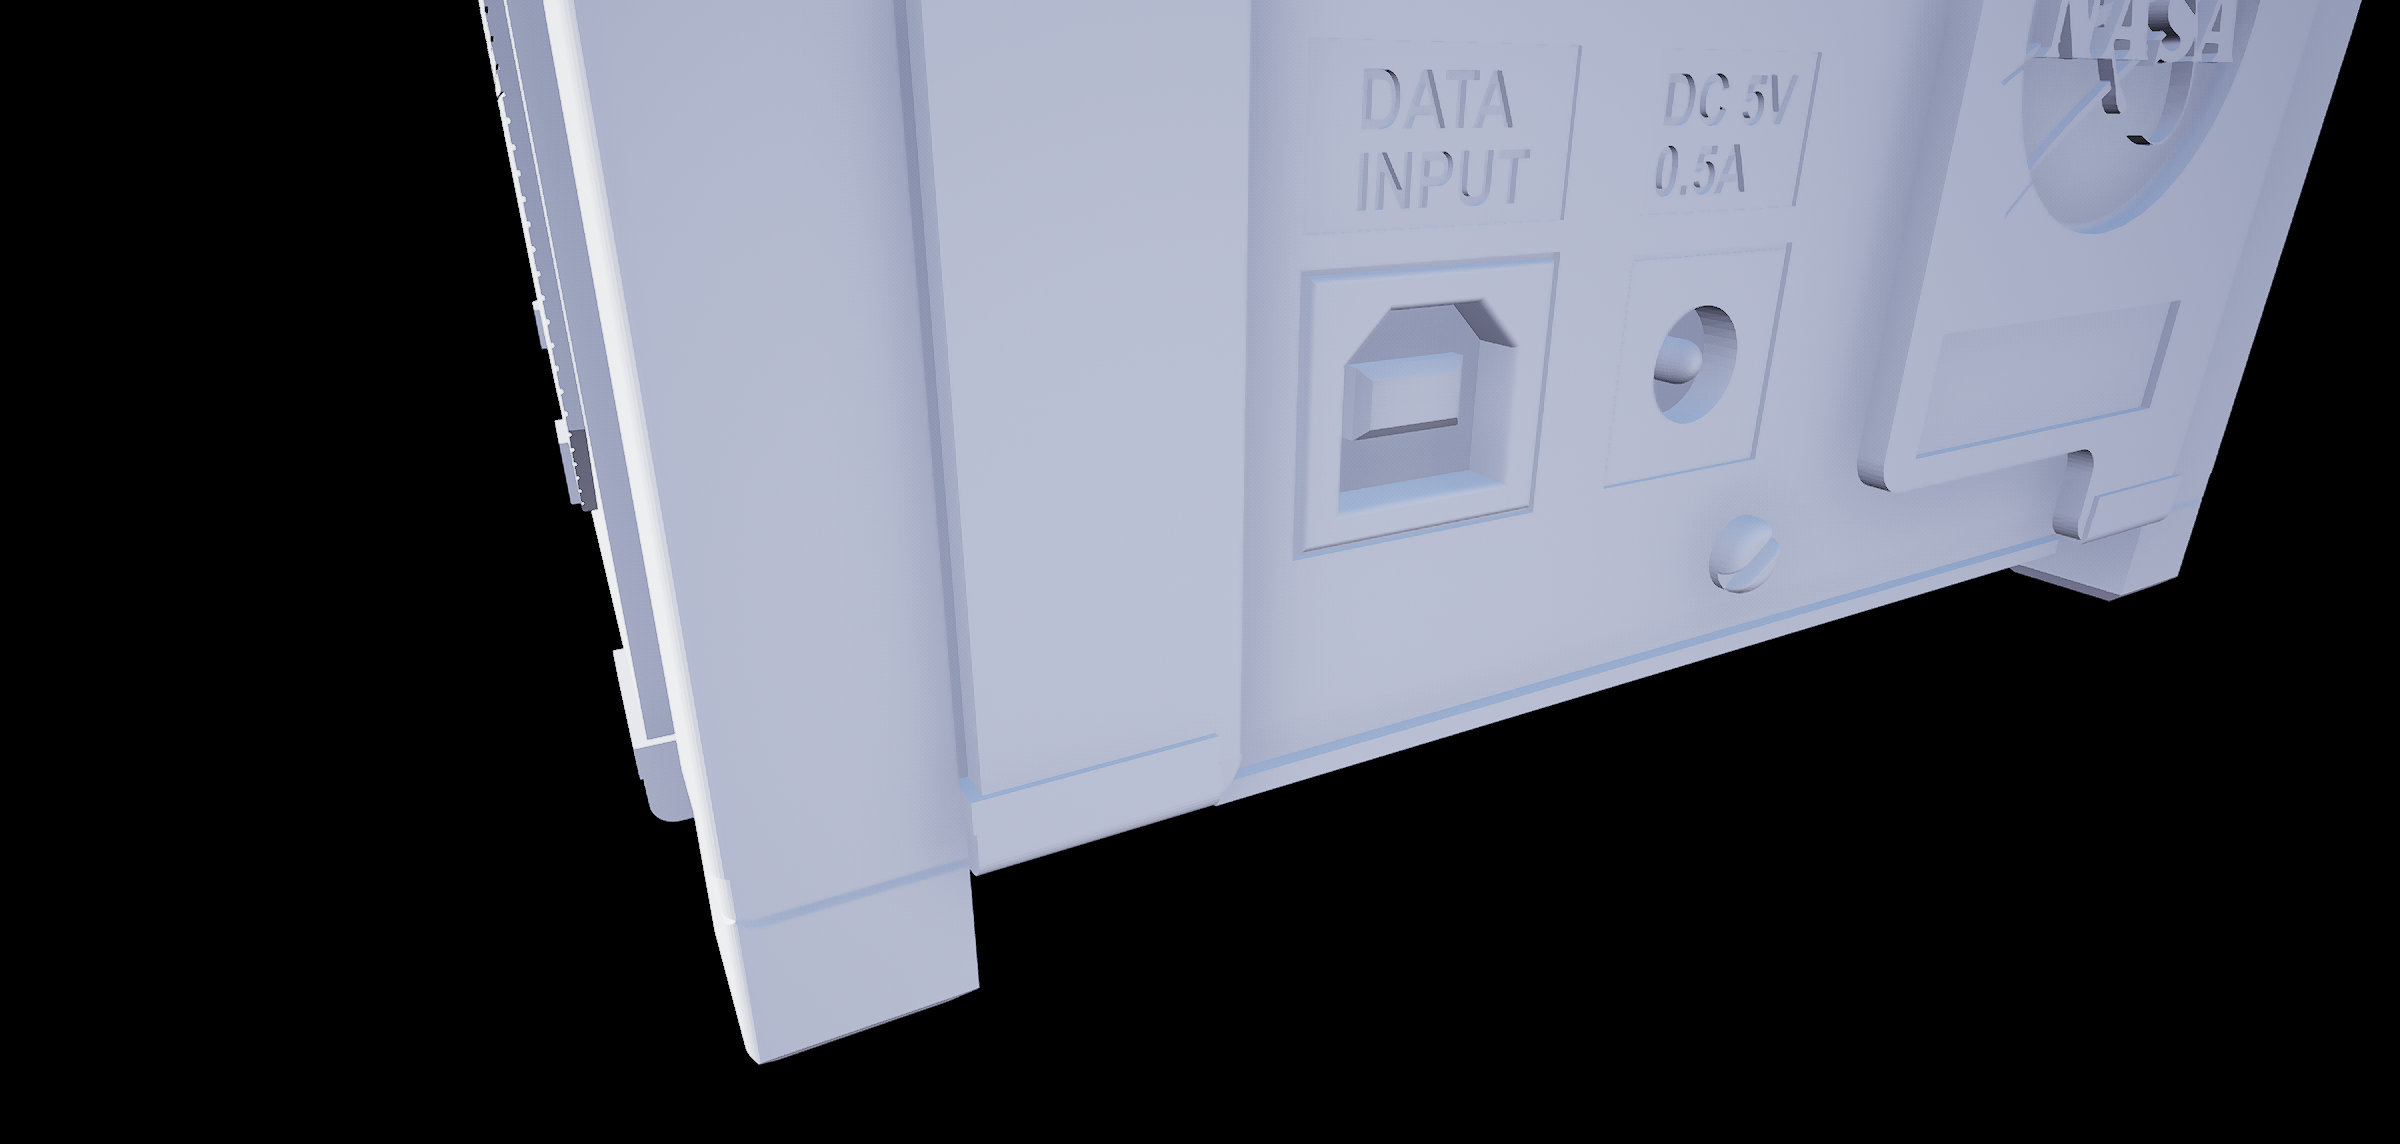dc: (1645, 291, 1746, 440)
usb: (1336, 282, 1529, 512)
